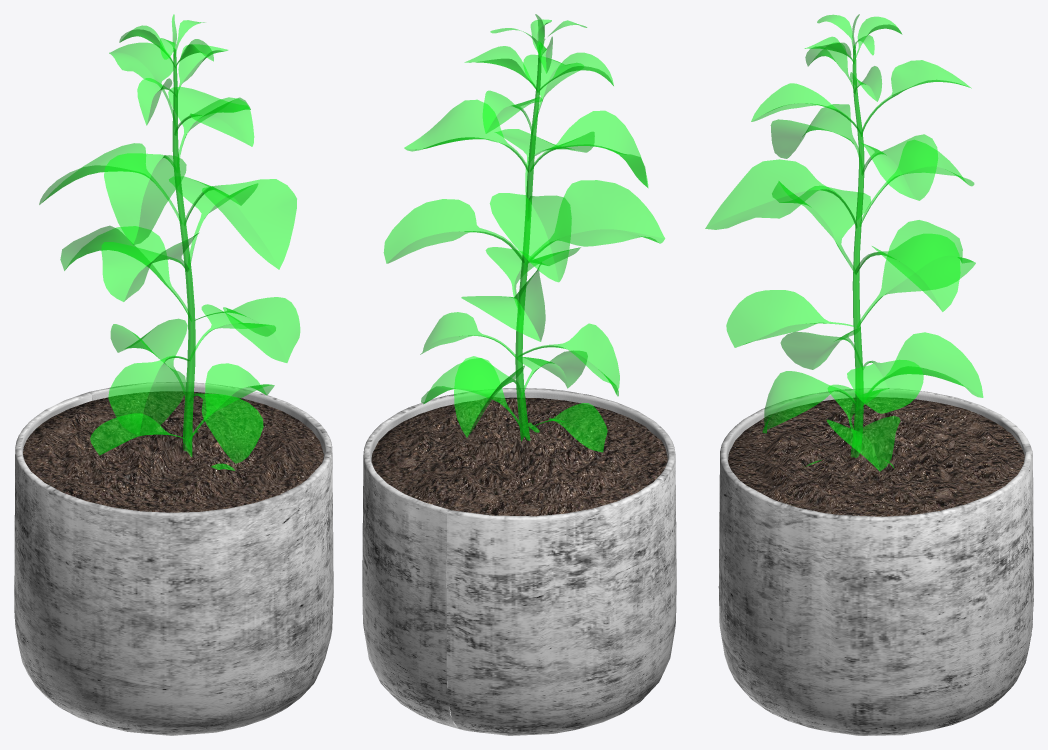
The model's file is tulsi.glb.
3 renders of one model, left to right at view 1: azimuth 30°, elevation 25°; view 2: azimuth 150°, elevation 25°; view 3: azimuth 270°, elevation 25°, orthographic.
Visible parts, largest first — view 1: G-AUL10_0, Object_4; view 2: G-AUL10_0, Object_4; view 3: G-AUL10_0, Object_4.
Boxes of the visible parts, box(x1,y1,x2,y2) form: G-AUL10_0: box(14, 382, 333, 735); Object_4: box(39, 14, 300, 470); G-AUL10_0: box(362, 388, 676, 735); Object_4: box(383, 14, 664, 452); G-AUL10_0: box(718, 388, 1033, 735); Object_4: box(705, 14, 983, 471).
Size of the model in its own units: 0.8126 by 1.93 by 0.8502.
Materials: 3 (2 with a texture image).
